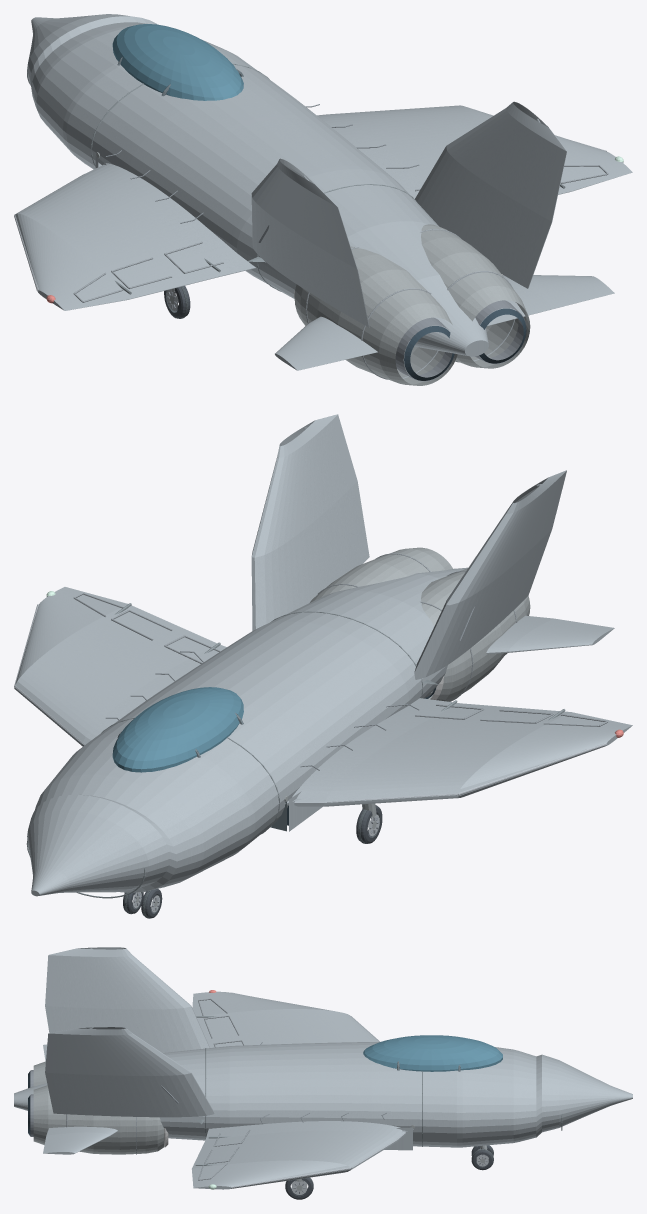
3 renders of one model, top to bottom at view 1: azimuth 30°, elevation 25°; view 2: azimuth 150°, elevation 25°; view 3: azimuth 270°, elevation 25°, orthographic. The views are drawn at different scales.
Parts seen in each view (by area): view 1: surface_stealthlight, surface_metal, surface_glass2, surface_darkgrey, surface_seam, surface_engineblack, surface_stealthseam; view 2: surface_stealthlight, surface_glass2, surface_metal, surface_seam, surface_tire, surface_aluminium, surface_stealthseam; view 3: surface_stealthlight, surface_metal, surface_glass2, surface_seam, surface_tire, surface_aluminium, surface_stealthseam.
Boxes of the visible parts, x1=… form: surface_stealthlight: x1=15, y1=14, x2=632, y2=370; surface_metal: x1=96, y1=152, x2=530, y2=385; surface_glass2: x1=112, y1=24, x2=243, y2=100; surface_darkgrey: x1=167, y1=292, x2=526, y2=381; surface_seam: x1=73, y1=119, x2=608, y2=379; surface_engineblack: x1=404, y1=308, x2=526, y2=380; surface_stealthseam: x1=27, y1=63, x2=565, y2=294; surface_stealthlight: x1=14, y1=414, x2=632, y2=896; surface_glass2: x1=112, y1=687, x2=243, y2=772; surface_metal: x1=136, y1=547, x2=530, y2=907; surface_seam: x1=73, y1=427, x2=608, y2=726; surface_tire: x1=123, y1=805, x2=382, y2=918; surface_aluminium: x1=14, y1=604, x2=606, y2=802; surface_stealthseam: x1=26, y1=603, x2=565, y2=898; surface_stealthlight: x1=14, y1=947, x2=632, y2=1189; surface_metal: x1=33, y1=1061, x2=487, y2=1190; surface_glass2: x1=363, y1=1035, x2=502, y2=1071; surface_seam: x1=66, y1=948, x2=250, y2=1180; surface_tire: x1=285, y1=1145, x2=493, y2=1199; surface_aluminium: x1=231, y1=992, x2=404, y2=1188; surface_stealthseam: x1=195, y1=1016, x2=562, y2=1165.
Bounding box in the file's own units: 13.78 × 5.84 × 18.31.
Materials: 20 (20 with a texture image).
